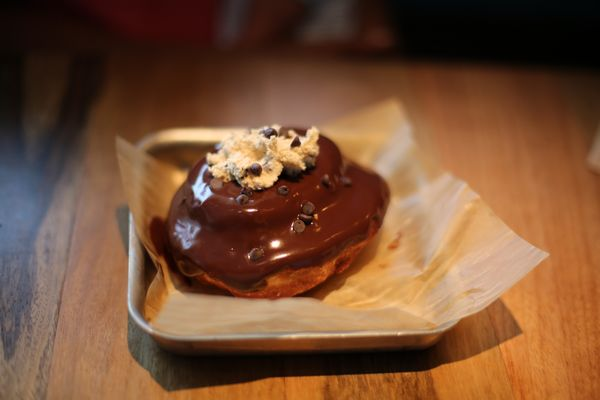curry: (8, 38, 597, 392)
salad: (163, 125, 391, 299)
